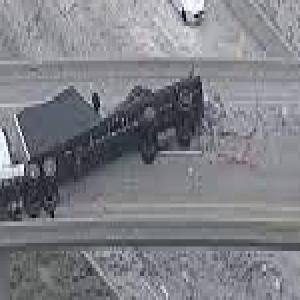serious: (0, 78, 218, 218)
